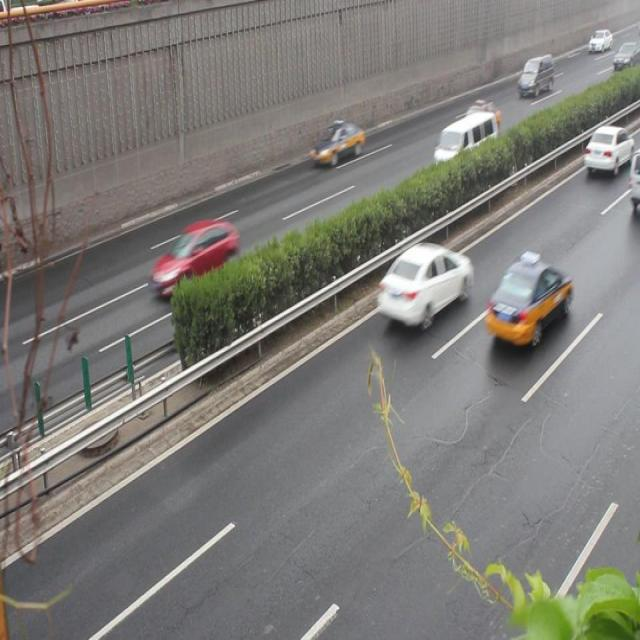car: (374, 240, 467, 324), (485, 255, 568, 347), (150, 216, 237, 296), (309, 117, 364, 166), (582, 122, 631, 174), (454, 98, 499, 139)
